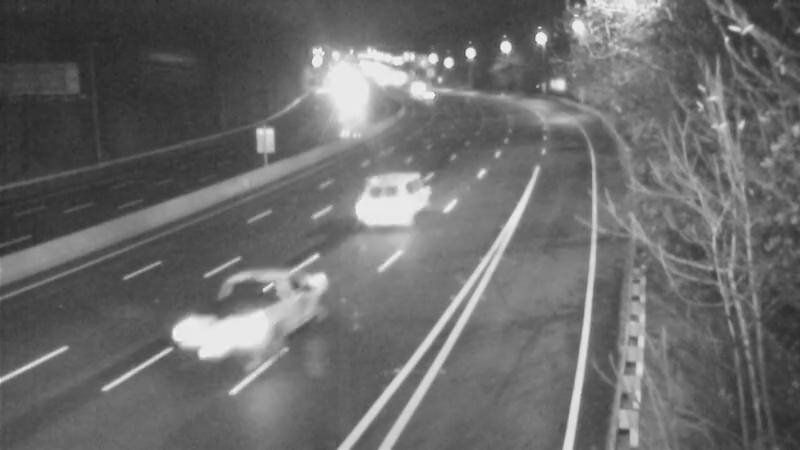vehicle: (158, 282, 268, 392), (353, 163, 433, 243), (387, 56, 437, 106), (402, 76, 452, 126)
